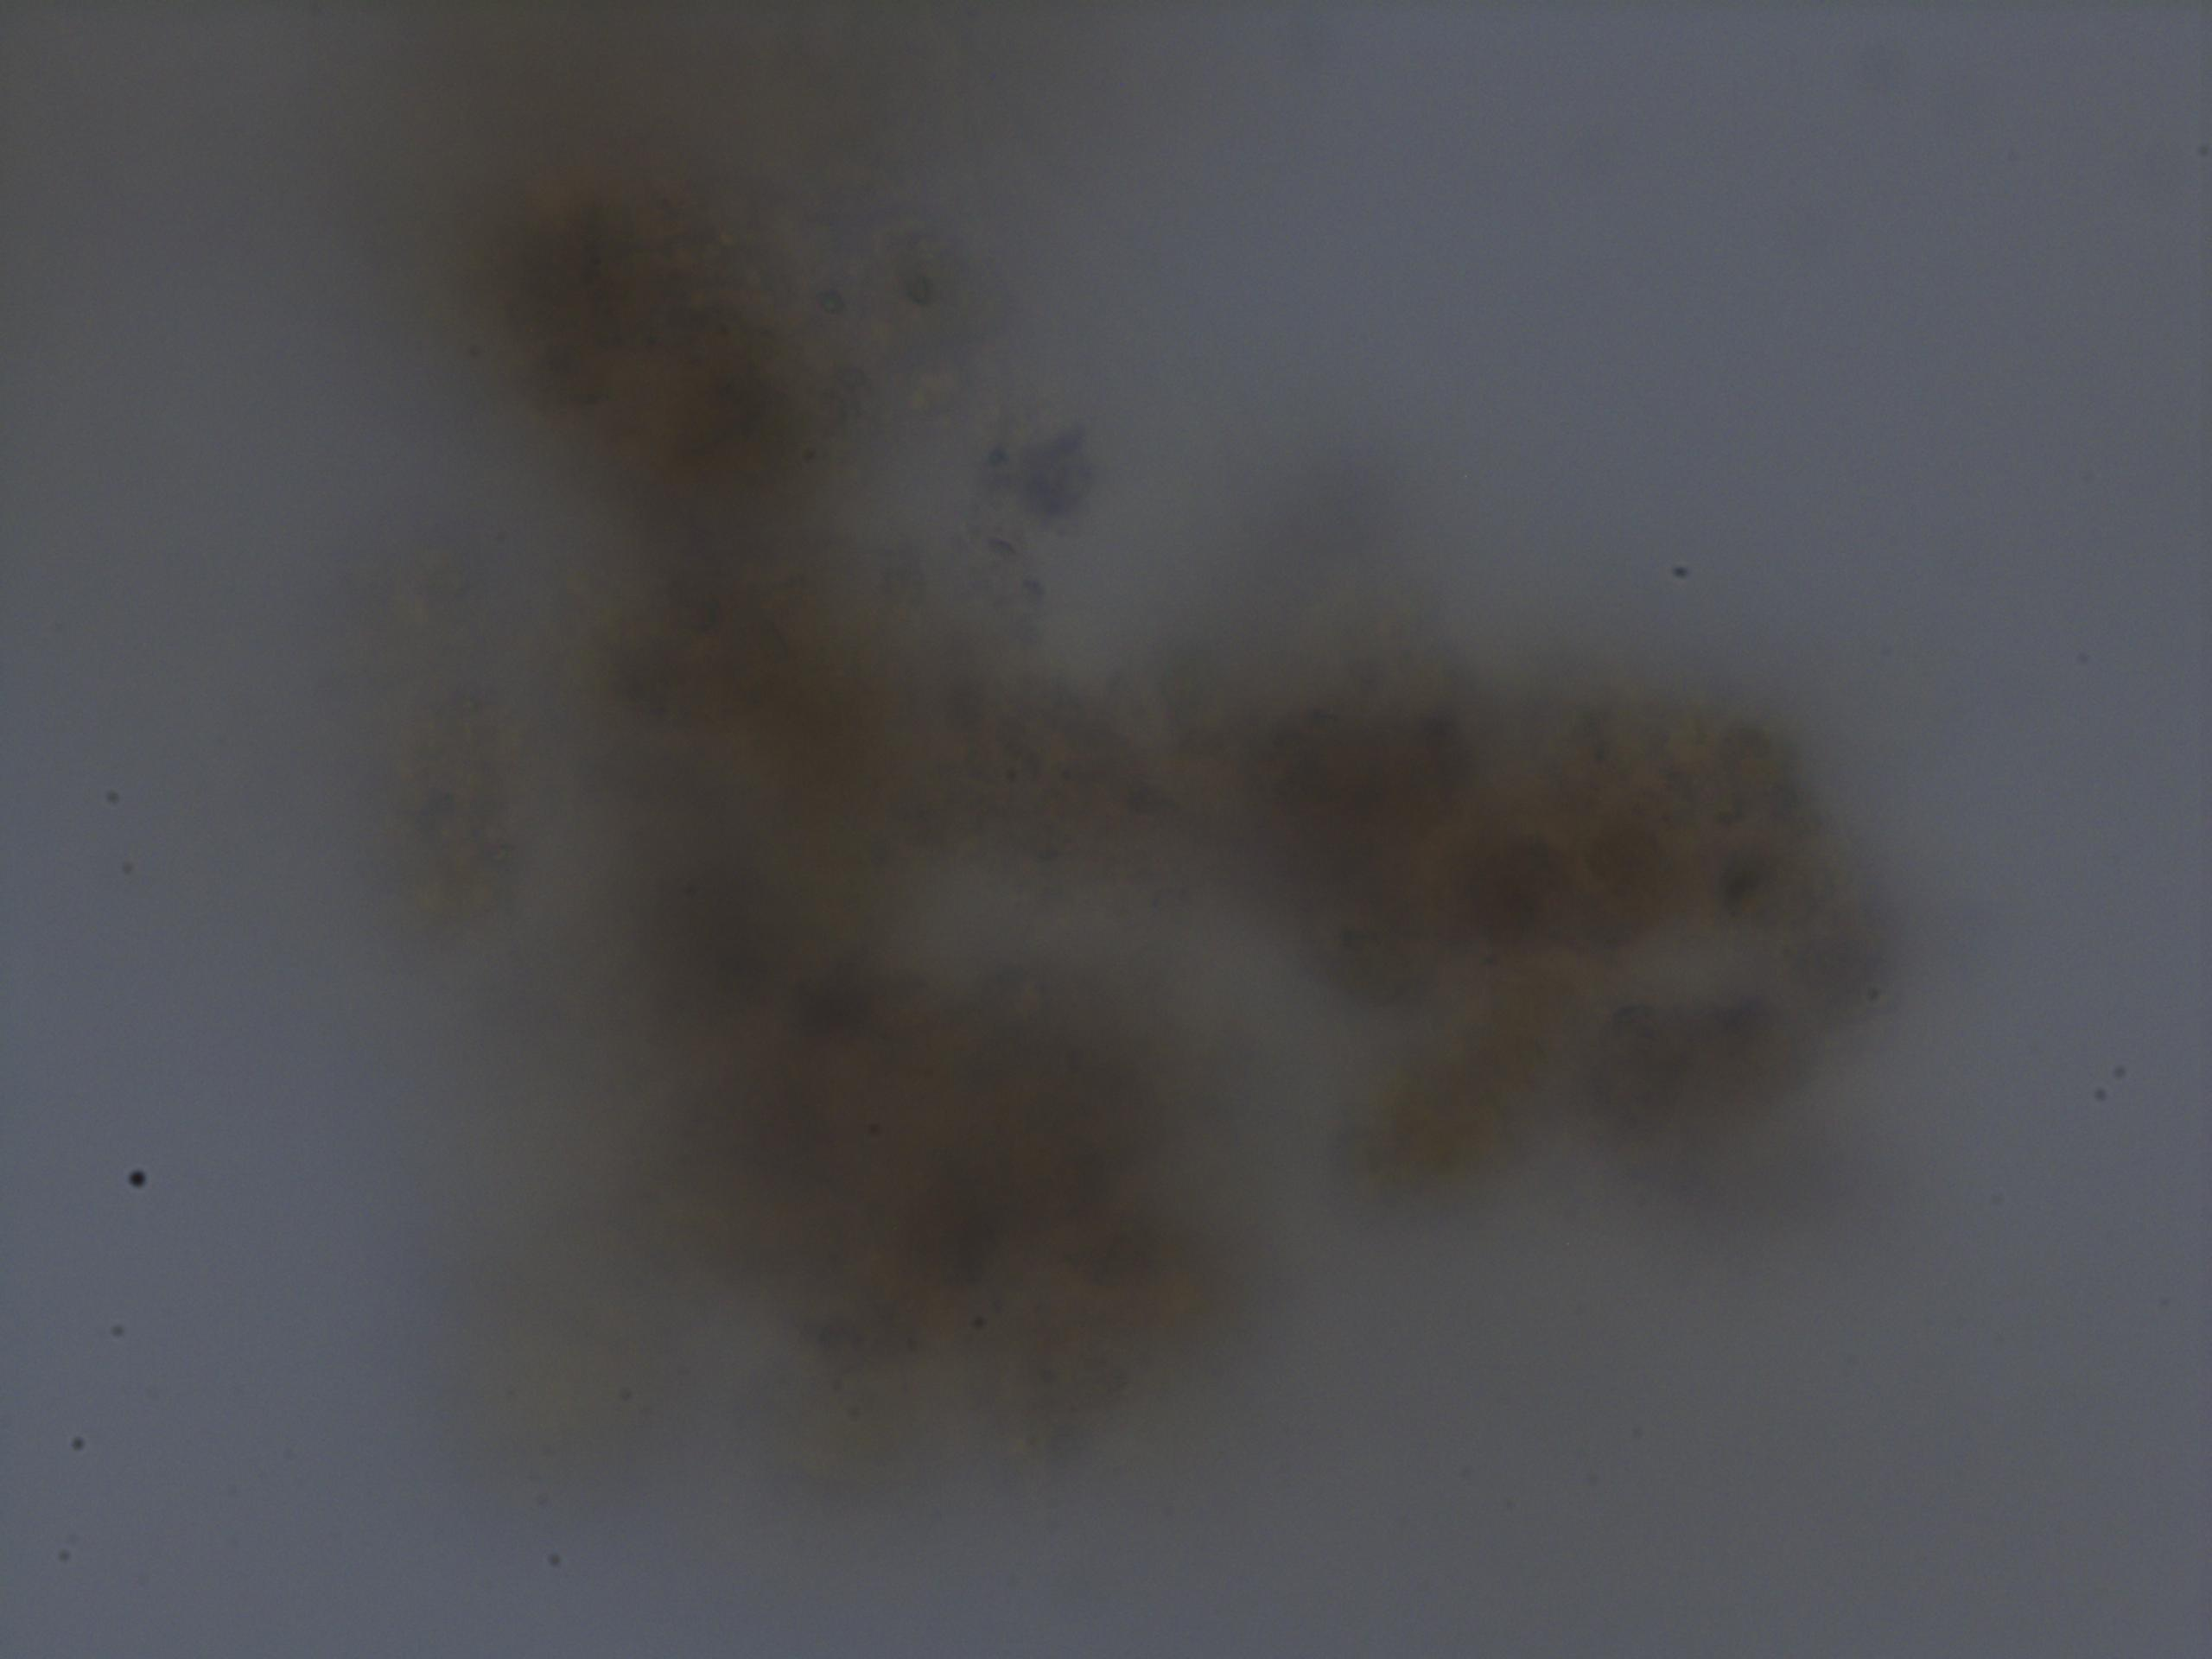open_floc: (308, 0, 1928, 1474)
